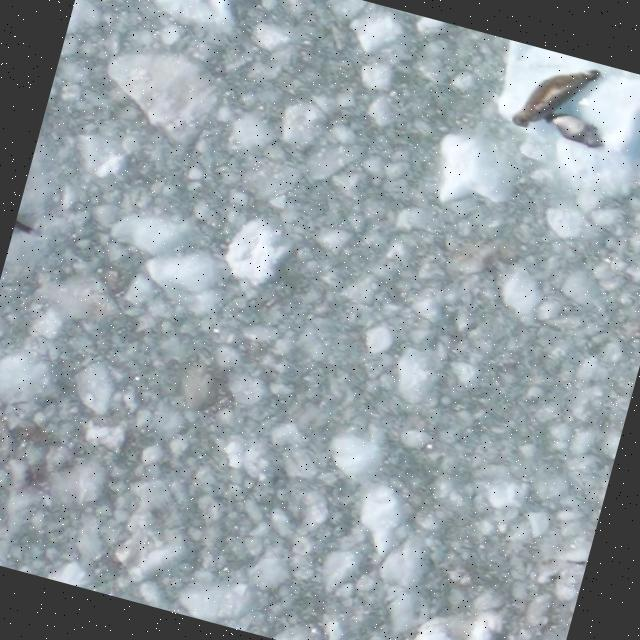seal: (502, 48, 604, 136), (540, 101, 611, 156)
